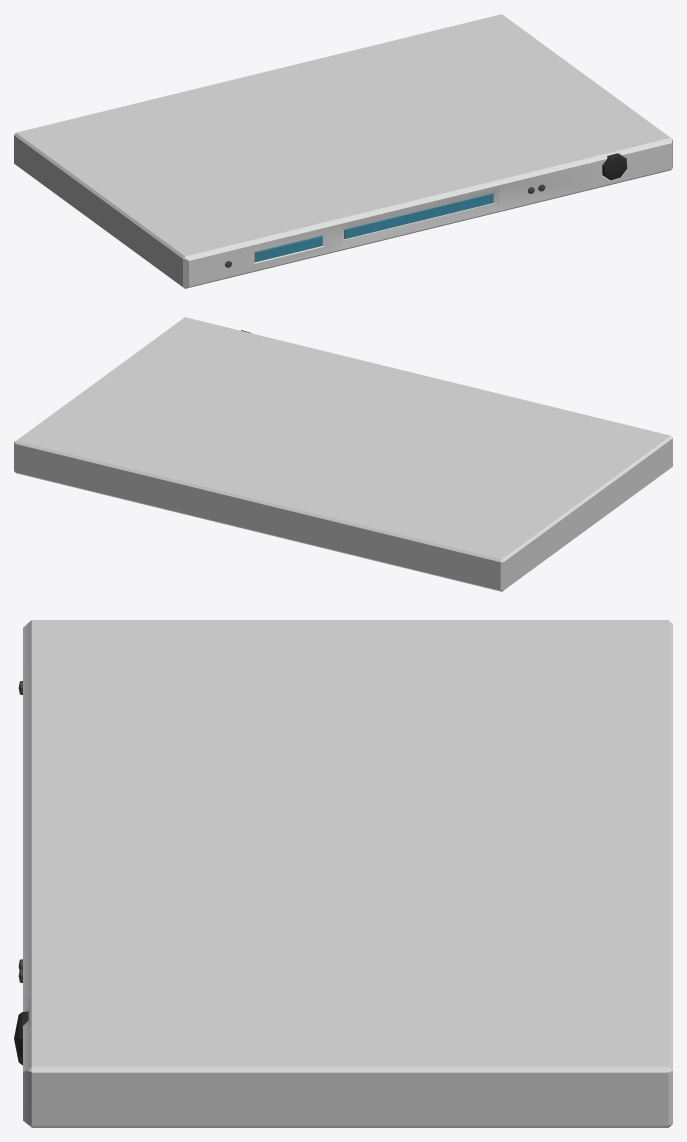
The model's file is LivingRoomDVD.FBX.
3 views of the same model, one above another, from view 1: azimuth 30°, elevation 25°; view 2: azimuth 150°, elevation 25°; view 3: azimuth 270°, elevation 25° (orthographic). The views are drawn at different scales.
Parts seen in each view (by area): view 1: LivingRoomDVD; view 2: LivingRoomDVD; view 3: LivingRoomDVD.
Boxes of the visible parts, box(x1,y1,x2,y2) form: LivingRoomDVD: box(14, 14, 672, 288); LivingRoomDVD: box(14, 317, 672, 591); LivingRoomDVD: box(14, 620, 672, 1127).
Bounding box in the file's own units: 31.21 × 19.3 × 2.88.
